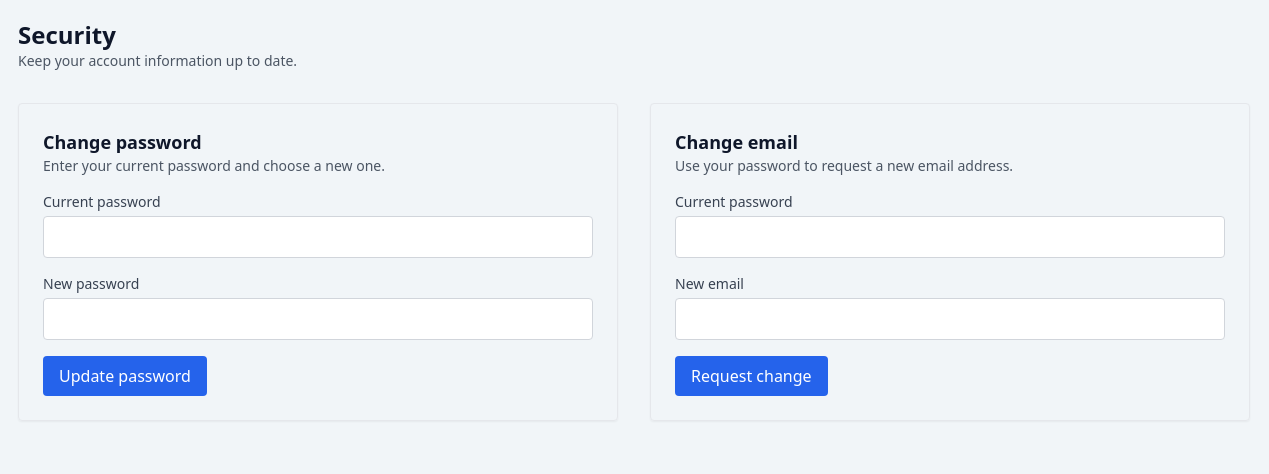
Scenario: SecurityPage › shows confirmation notice after requesting email change
Expected: the form "Change email" is shown, [650,103,1250,421]
Type "SecurePass1!" into the password field labelled "Current password" below "Change email".
click(950, 237); type("SecurePass1!")  # box [675,216,1225,258]
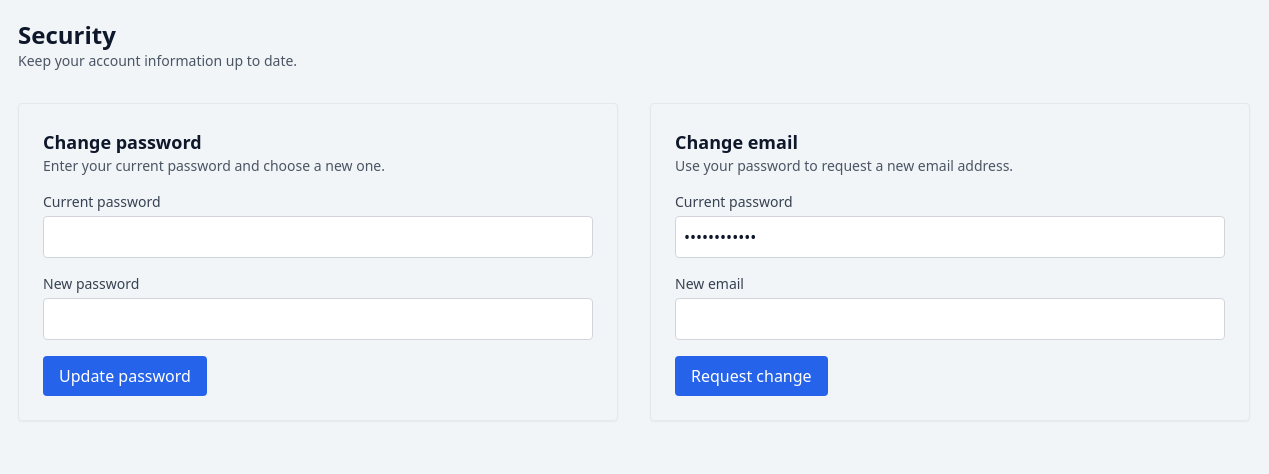
Type "new@example.com" into the field labelled "New email".
click(950, 319); type("new@example.com")  # box [675,298,1225,340]
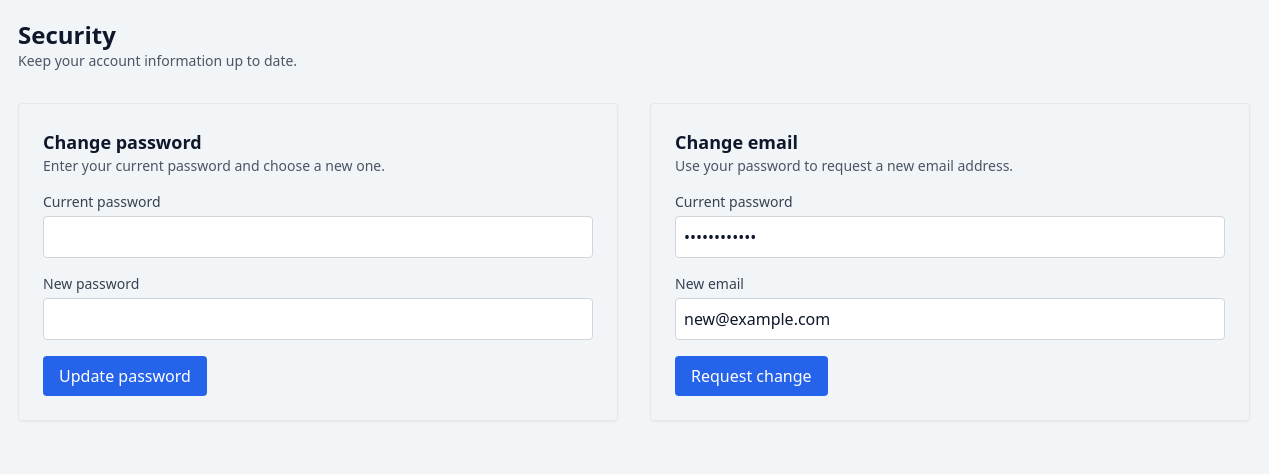
Click the button "Request change".
click(751, 376)  # box [675,356,828,396]
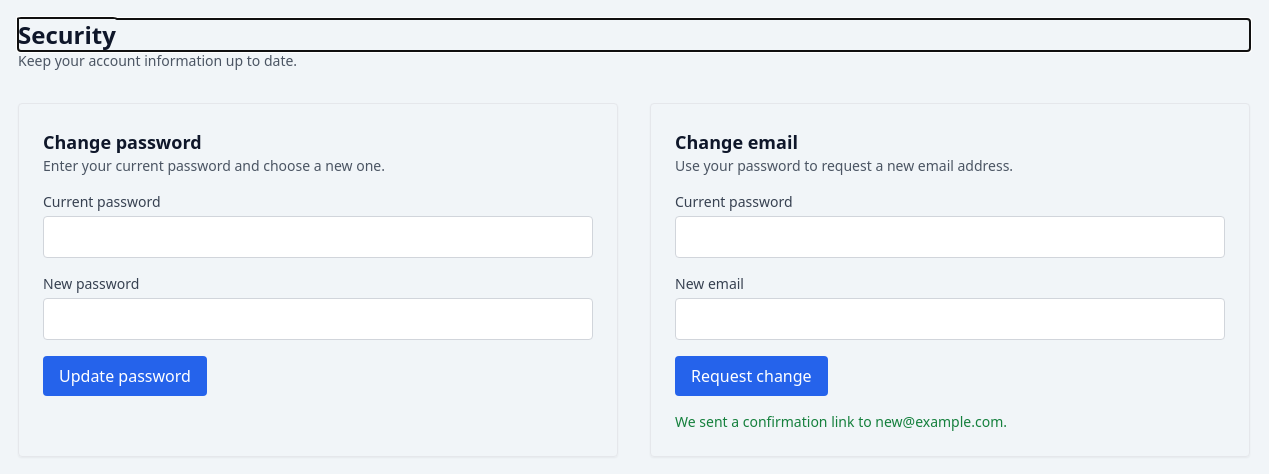
Now the text "We sent a confirmation link to new@example.com." is shown, box [675,412,1007,431]
